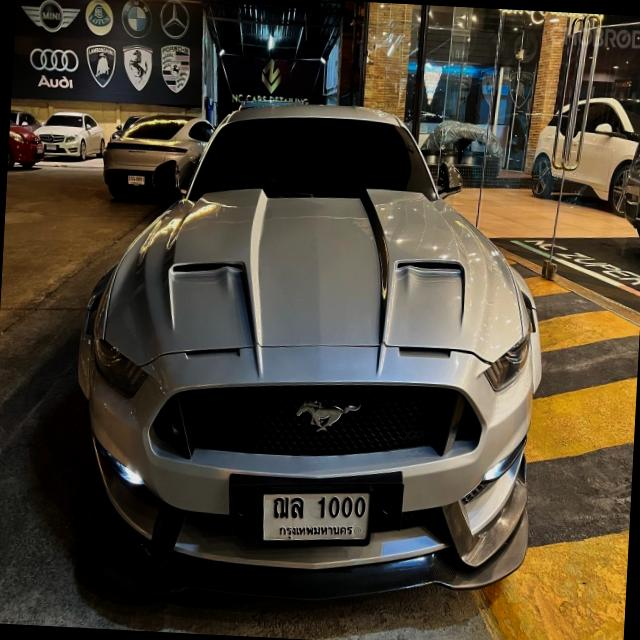license_plate: (252, 480, 376, 550), (126, 171, 146, 188)
